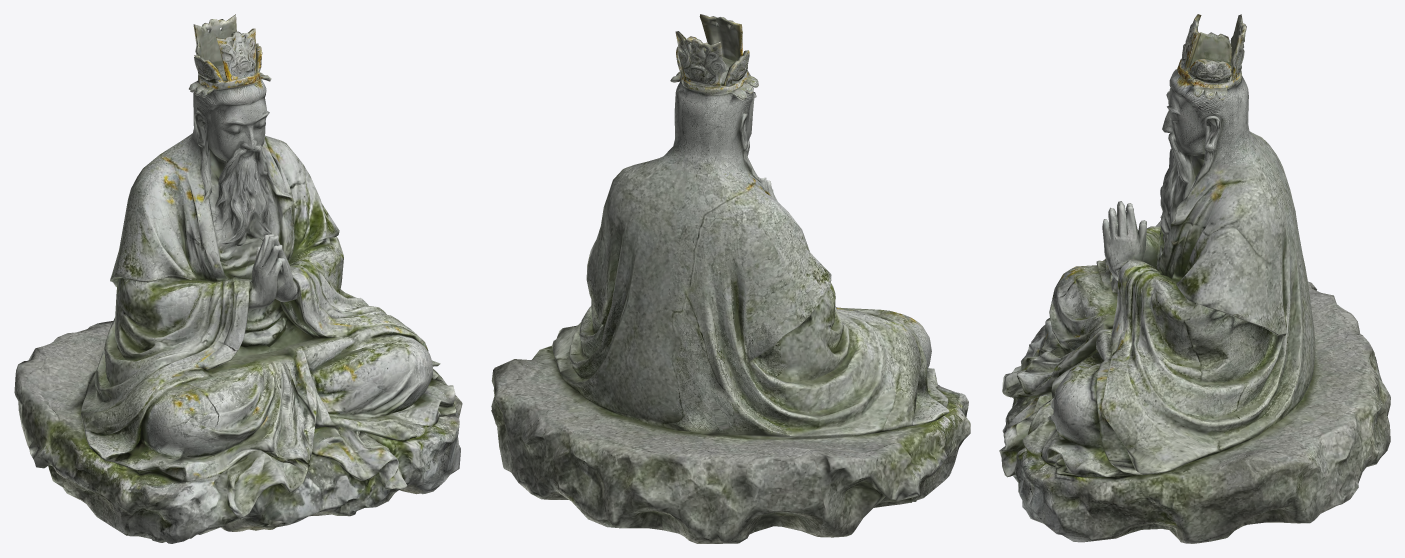
File: seated_sage.lod1.glb
The picture shows the model from 3 angles, left to right: view 1: azimuth 30°, elevation 25°; view 2: azimuth 150°, elevation 25°; view 3: azimuth 270°, elevation 25°; orthographic projection. The views are drawn at different scales.
Visible parts, largest first — view 1: clean; view 2: clean; view 3: clean.
Part boxes in pixels (box(x1,y1,x2,y2)): clean: box(14, 14, 462, 543); clean: box(491, 14, 970, 543); clean: box(999, 14, 1390, 543).
Size of the model in its own units: 138 by 150 by 120.
1 material, 1 textured.
